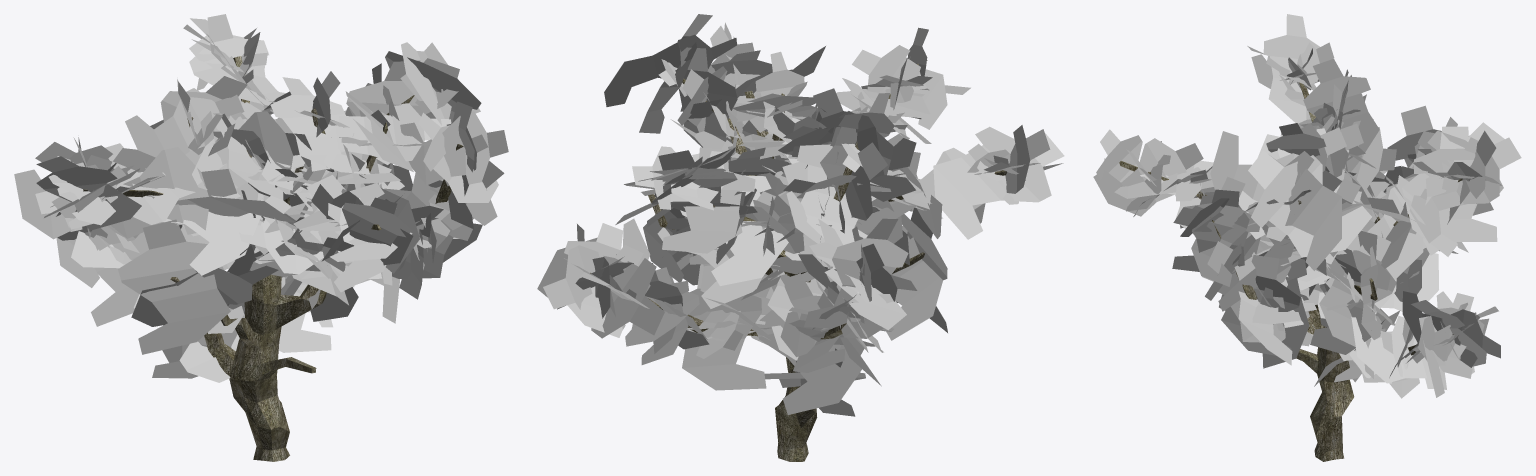
Rendered from Arbol_02.fbx.
3 renders of one model, left to right at view 1: azimuth 30°, elevation 25°; view 2: azimuth 150°, elevation 25°; view 3: azimuth 270°, elevation 25°, orthographic. The views are drawn at different scales.
Visible parts, largest first — view 1: arbol003.001; view 2: arbol003.001; view 3: arbol003.001.
Boxes of the visible parts, left/top/right/bottom form: arbol003.001: left=14, top=14, right=508, bottom=461; arbol003.001: left=537, top=14, right=1064, bottom=461; arbol003.001: left=1093, top=14, right=1521, bottom=461.
Bounding box in the file's own units: 34.94 × 29.2 × 31.56.
